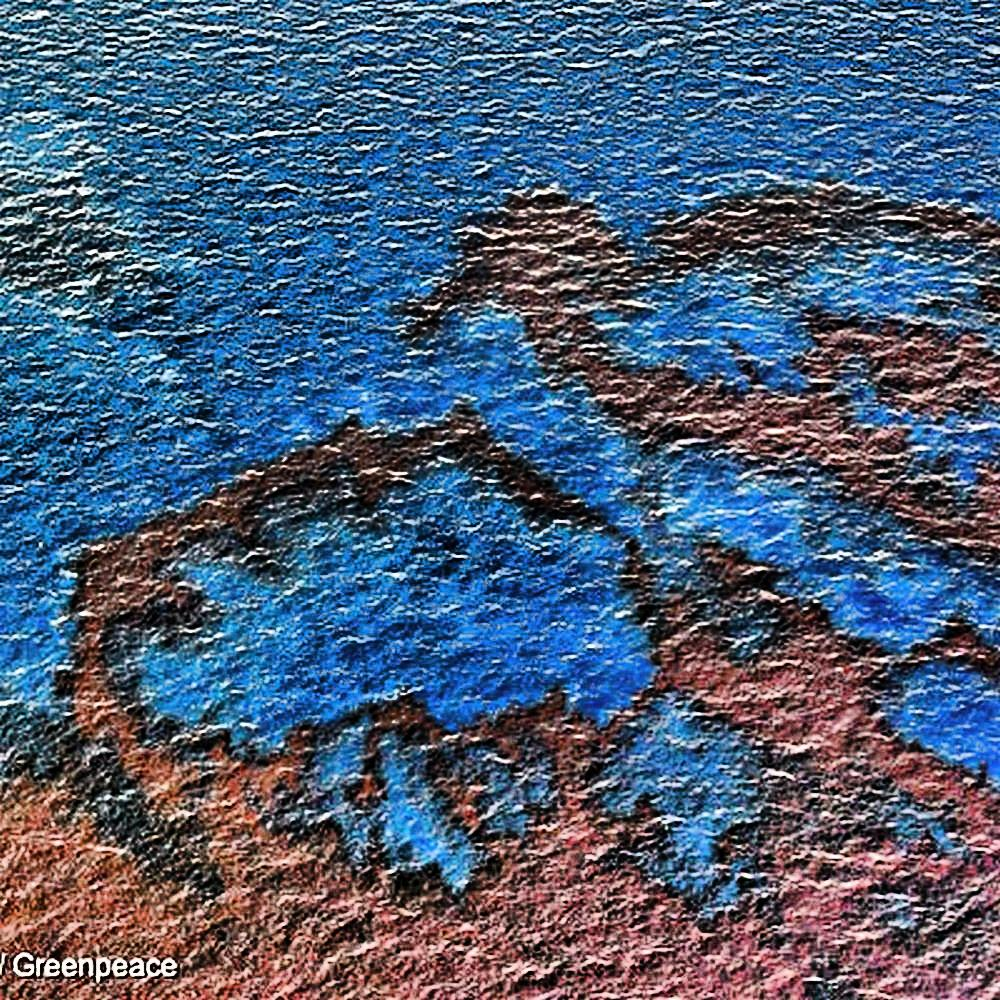truecolor: (0, 416, 1000, 1000), (419, 185, 1000, 558)
